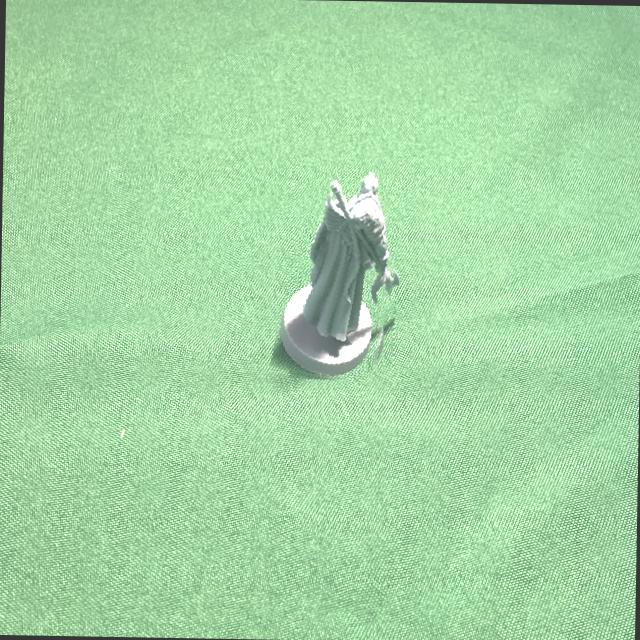isis_follower: (279, 158, 406, 384)
